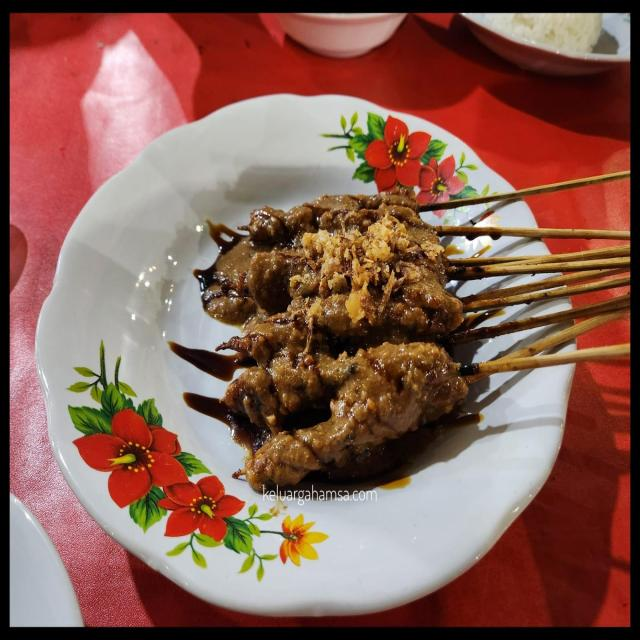Sate: (192, 180, 640, 498)
